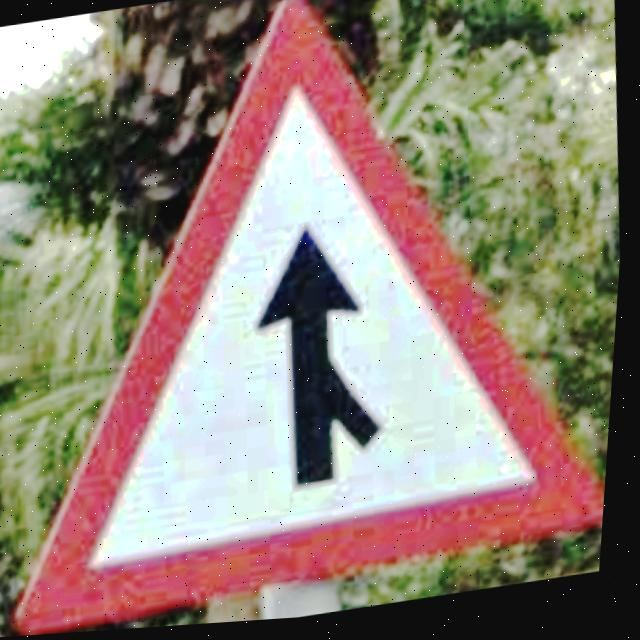rightmerge: (26, 3, 611, 636)
